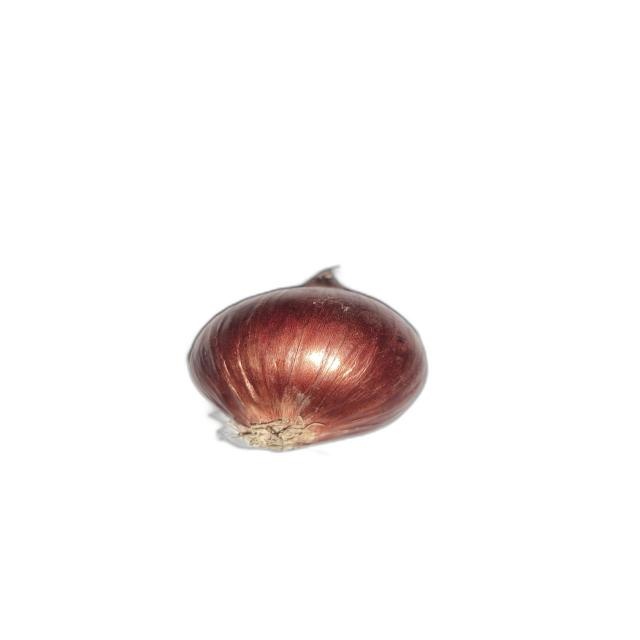onion: (186, 264, 430, 454)
